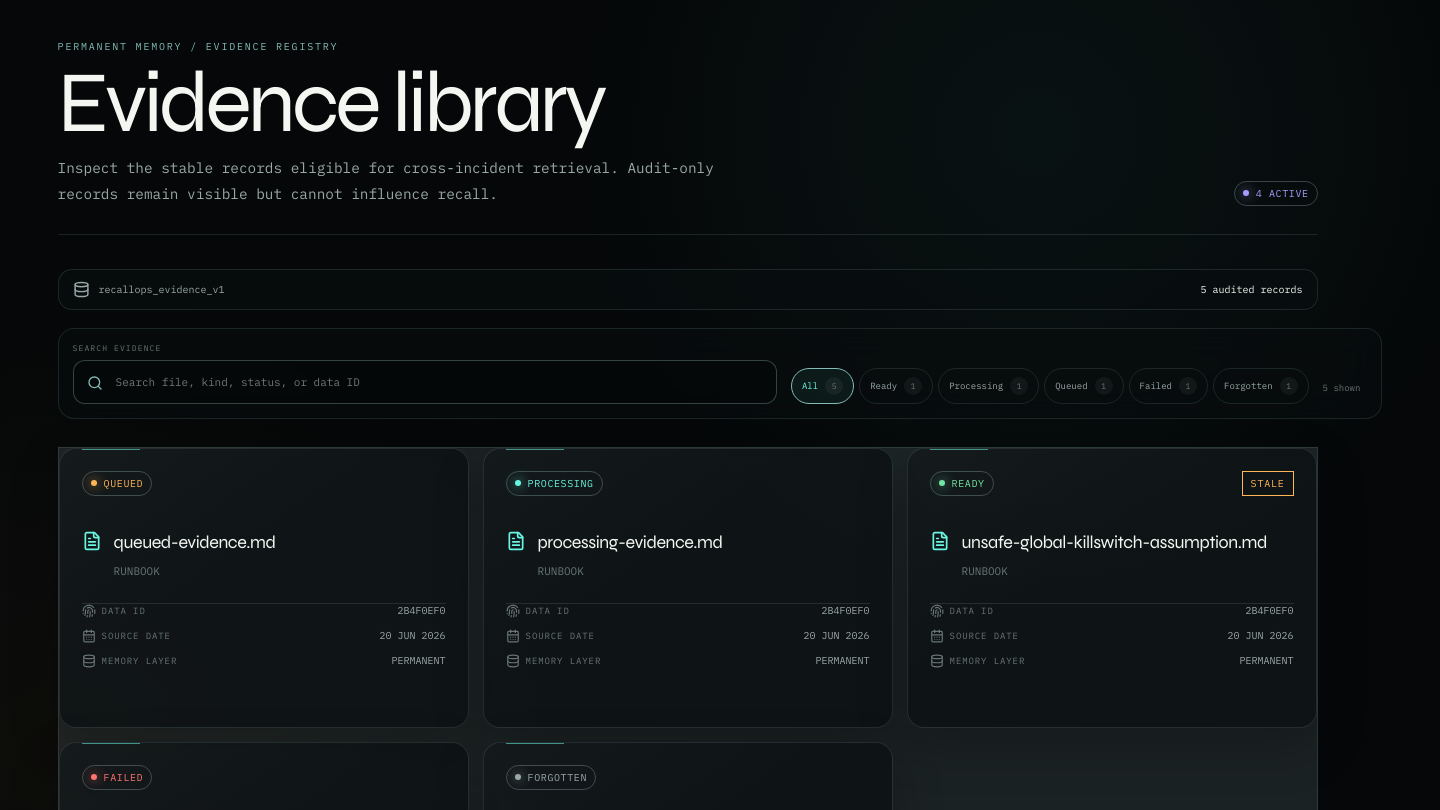
it: filters the evidence deck without removing records from the audit count
Type "failed" into the search field labelled "Search evidence". click: (425, 382)
box: [73,360,777,404]
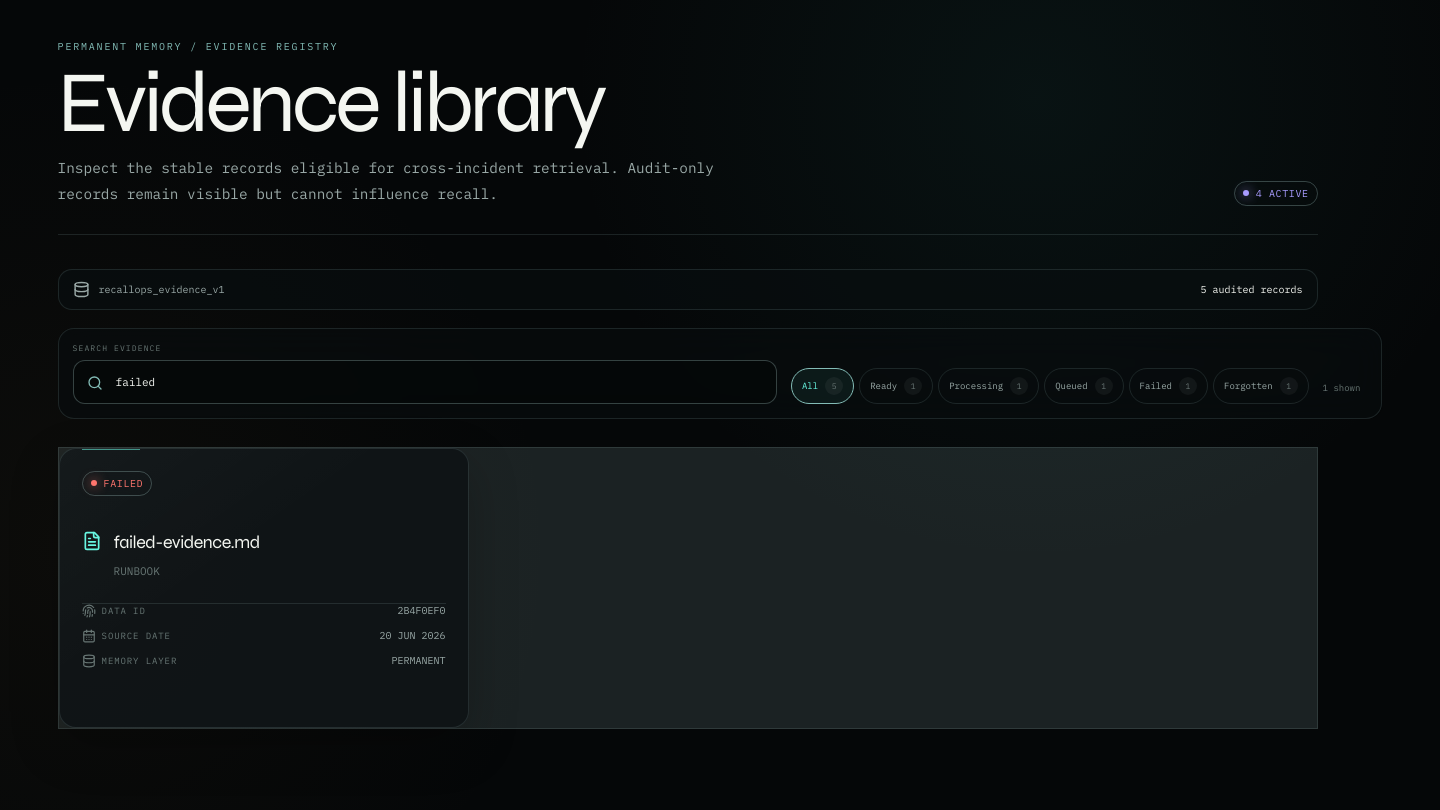
expect the element with test id "evidence-failed" is shown: met, box [59,448,469,728]
expect the element with test id "evidence-ready" is gone: met
Clear the search field labelled "Search evidence". click: (425, 382)
box: [73,360,777,404]
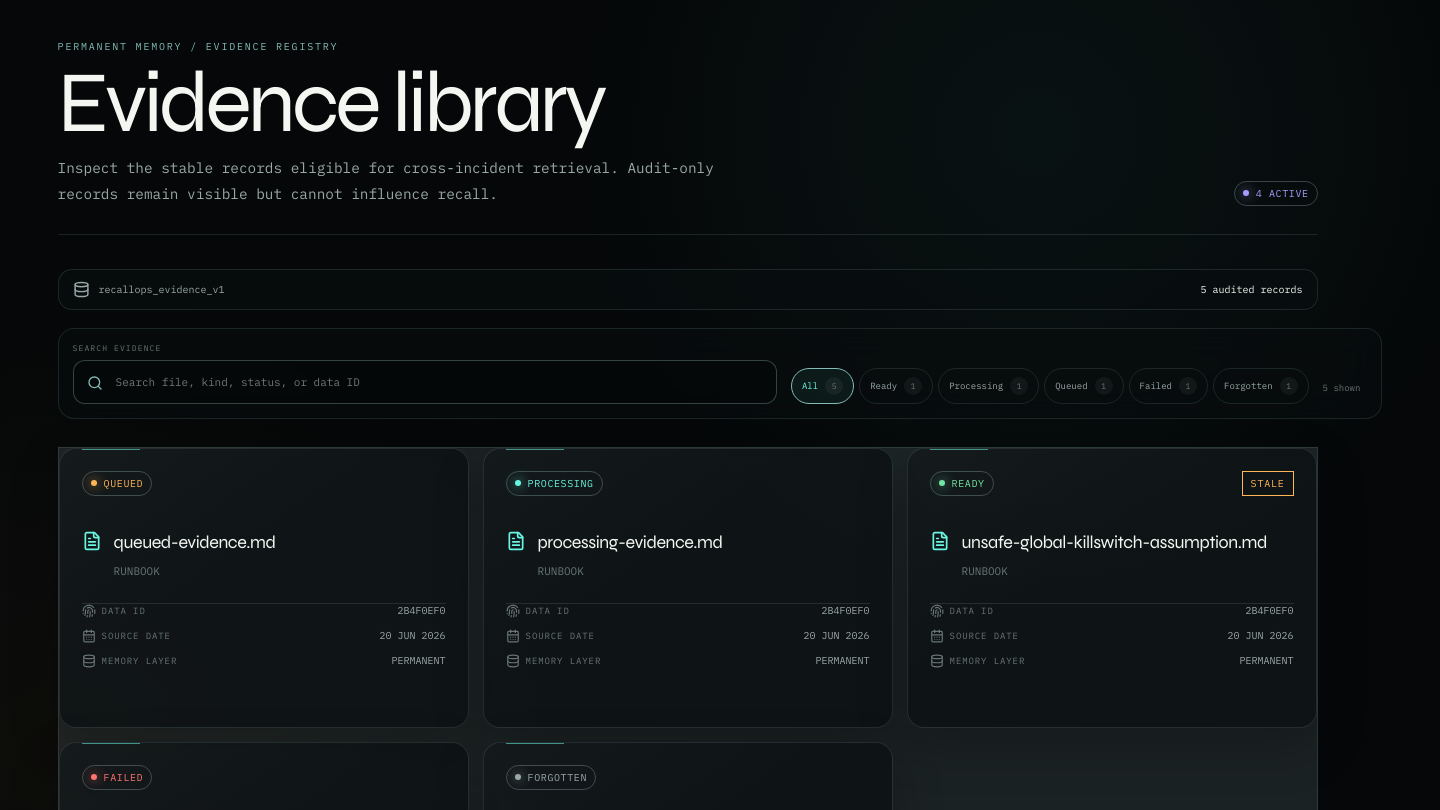
Click the button with aria-label "show forgotten evidence". click: (1261, 386)
box: [1213,368,1309,404]
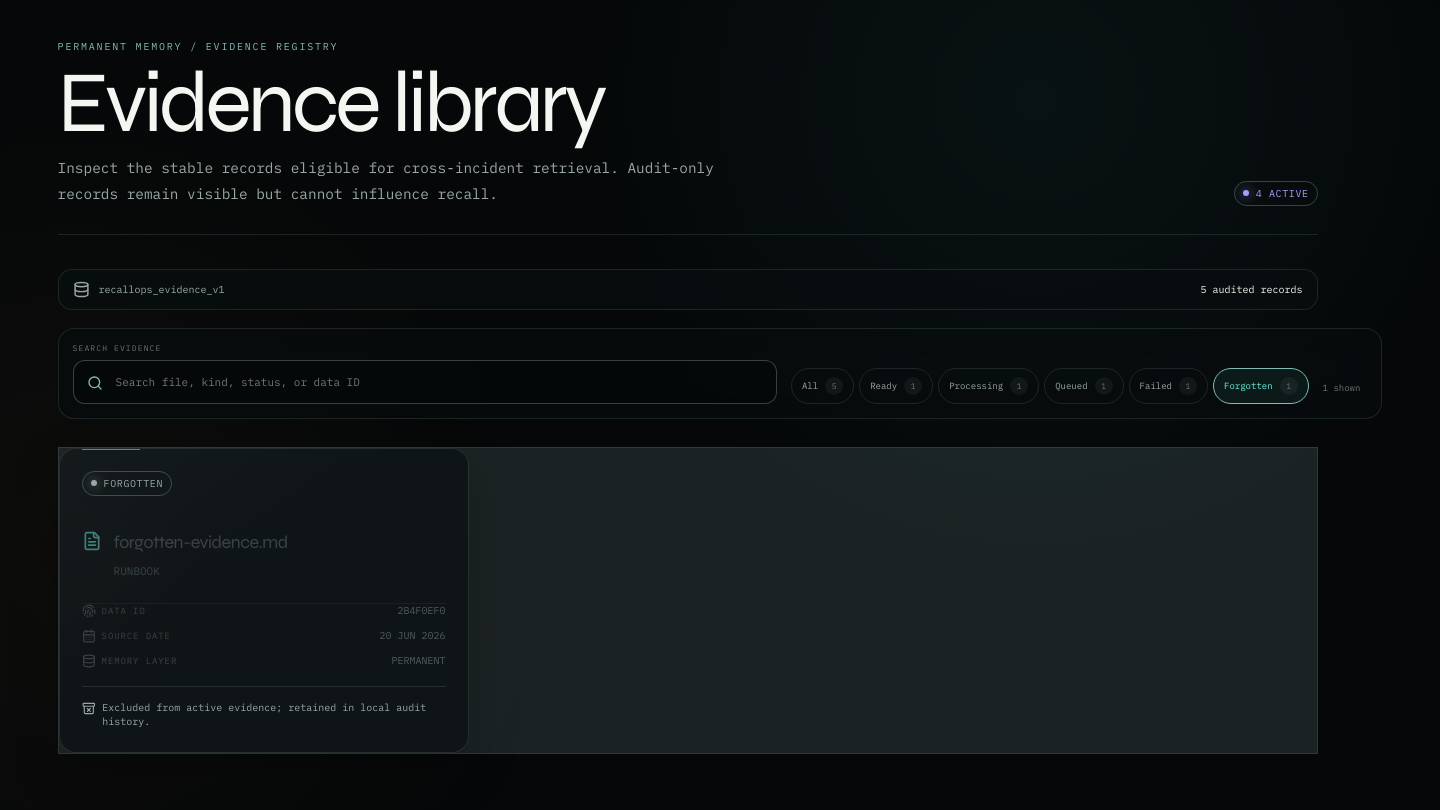
expect the element with test id "evidence-forgotten" is shown: met, box [59,448,469,753]
expect the element with test id "evidence-queued" is gone: met
